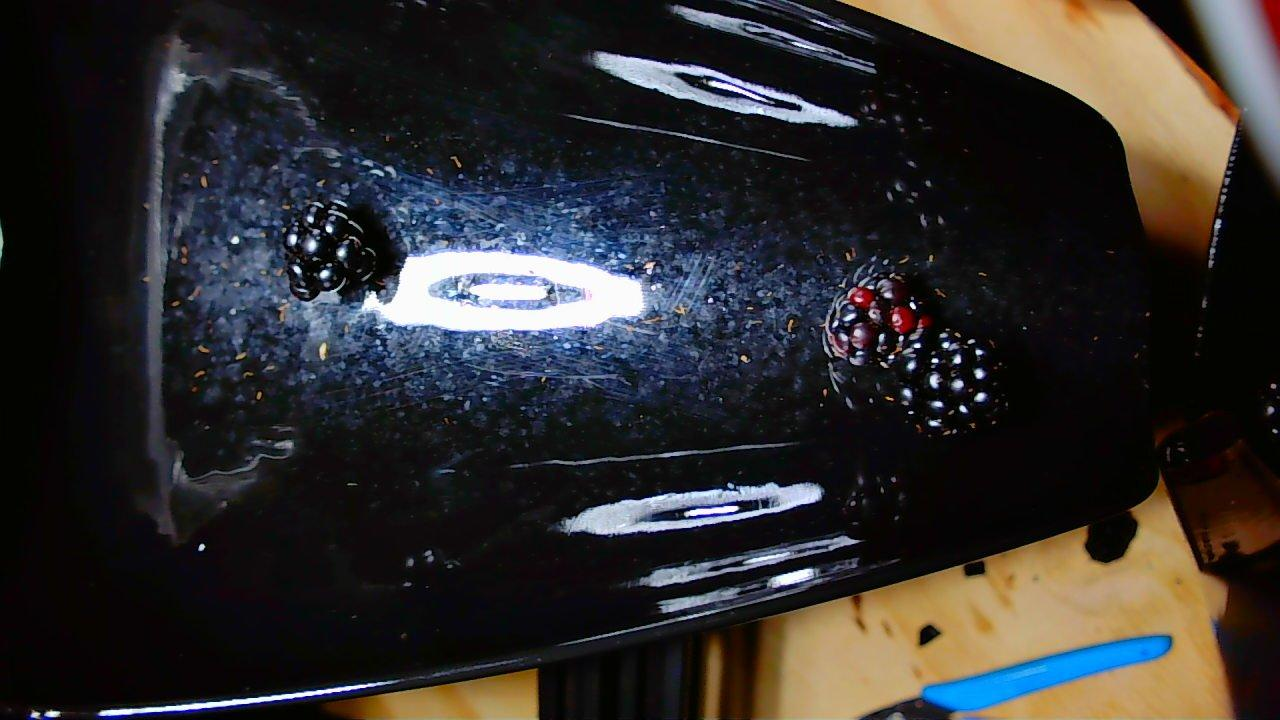berry: (896, 330, 1006, 434), (824, 268, 932, 365), (282, 202, 376, 300)
